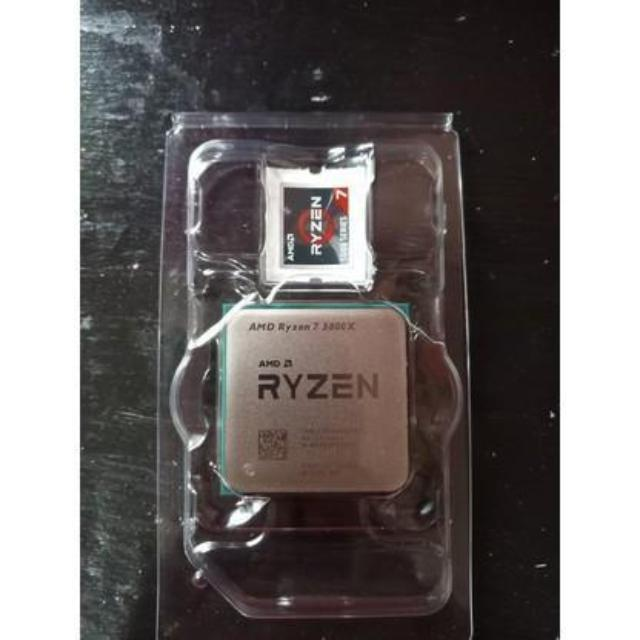CPU: (217, 304, 412, 496)
